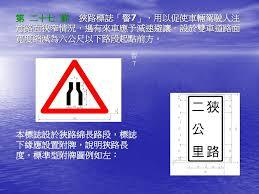narrow_road: (39, 58, 108, 113)
